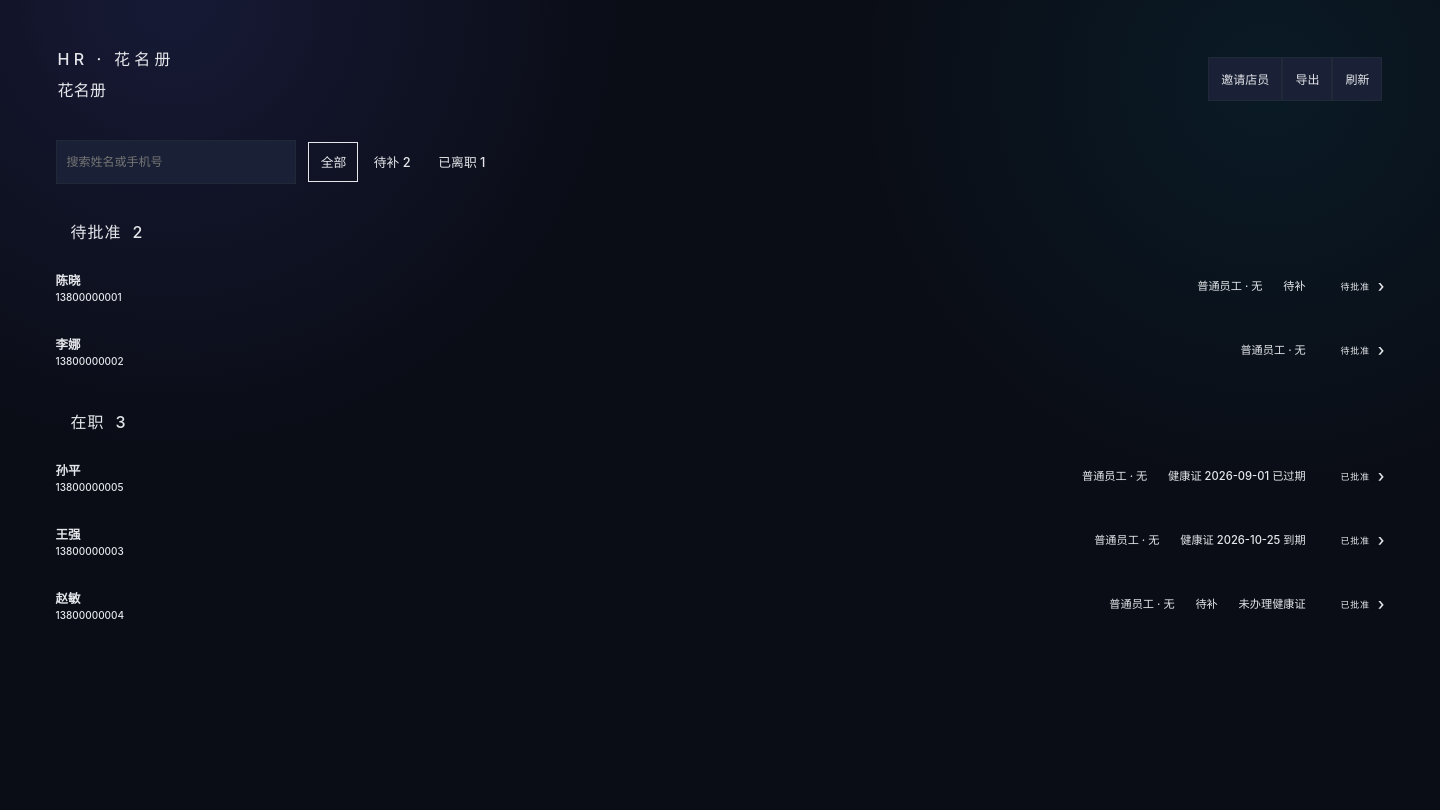
Test case: 花名册 · 列表分区与分段筛选 › 分段「待补 N」只数未停用且档案缺项的人，「已离职 N」是全部停用的人
This screenshot has width=1440, height=810.
Step 1. Click the button with class "roster-seg-item" showing "待补 2" → (392, 162), box [362,142,423,182]
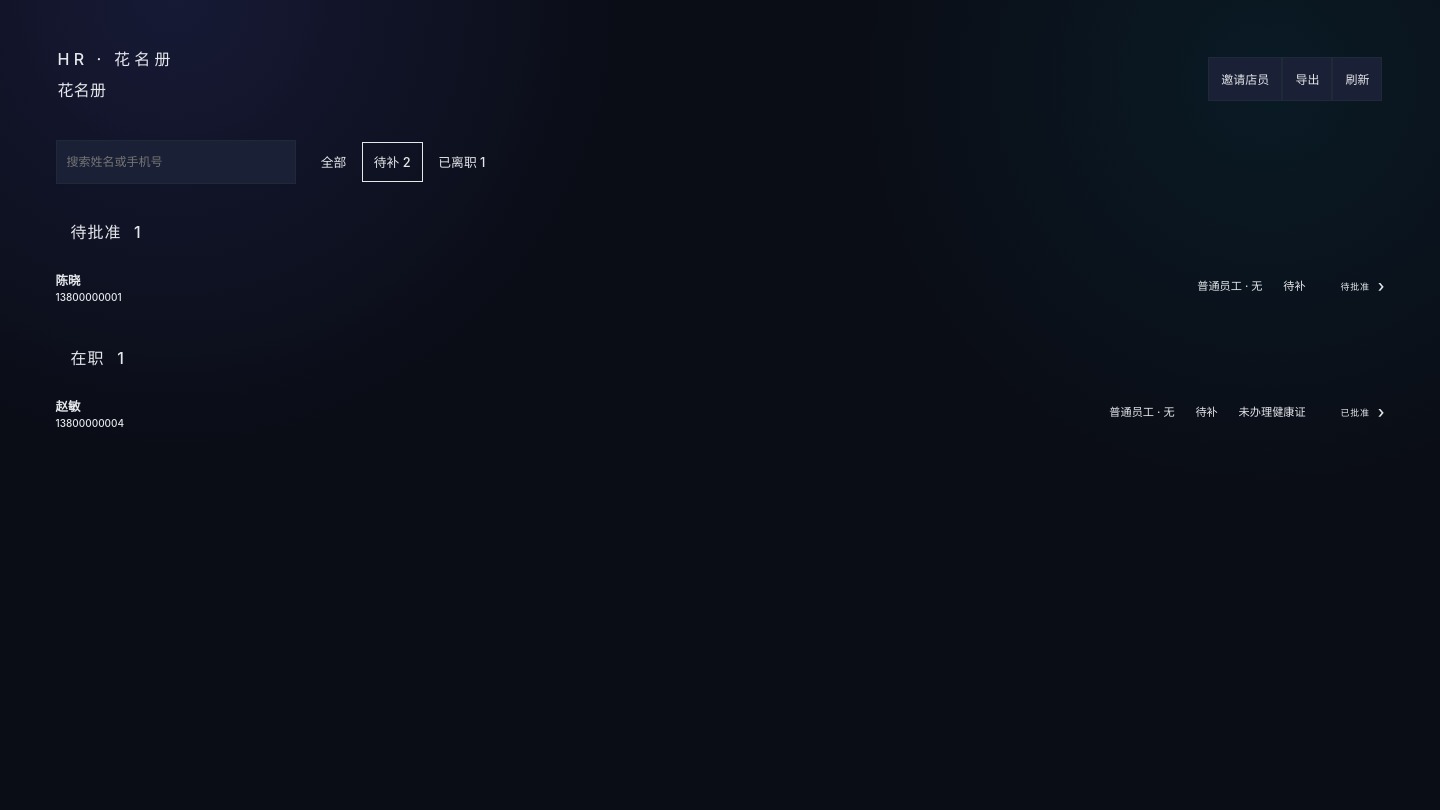
Check: the text "陈晓" is shown, box [56,273,81,288]
Check: the text "王强" is gone
Step 2. Click the button with class "roster-seg-item" showing "已离职 1" → (462, 162), box [426,142,498,182]
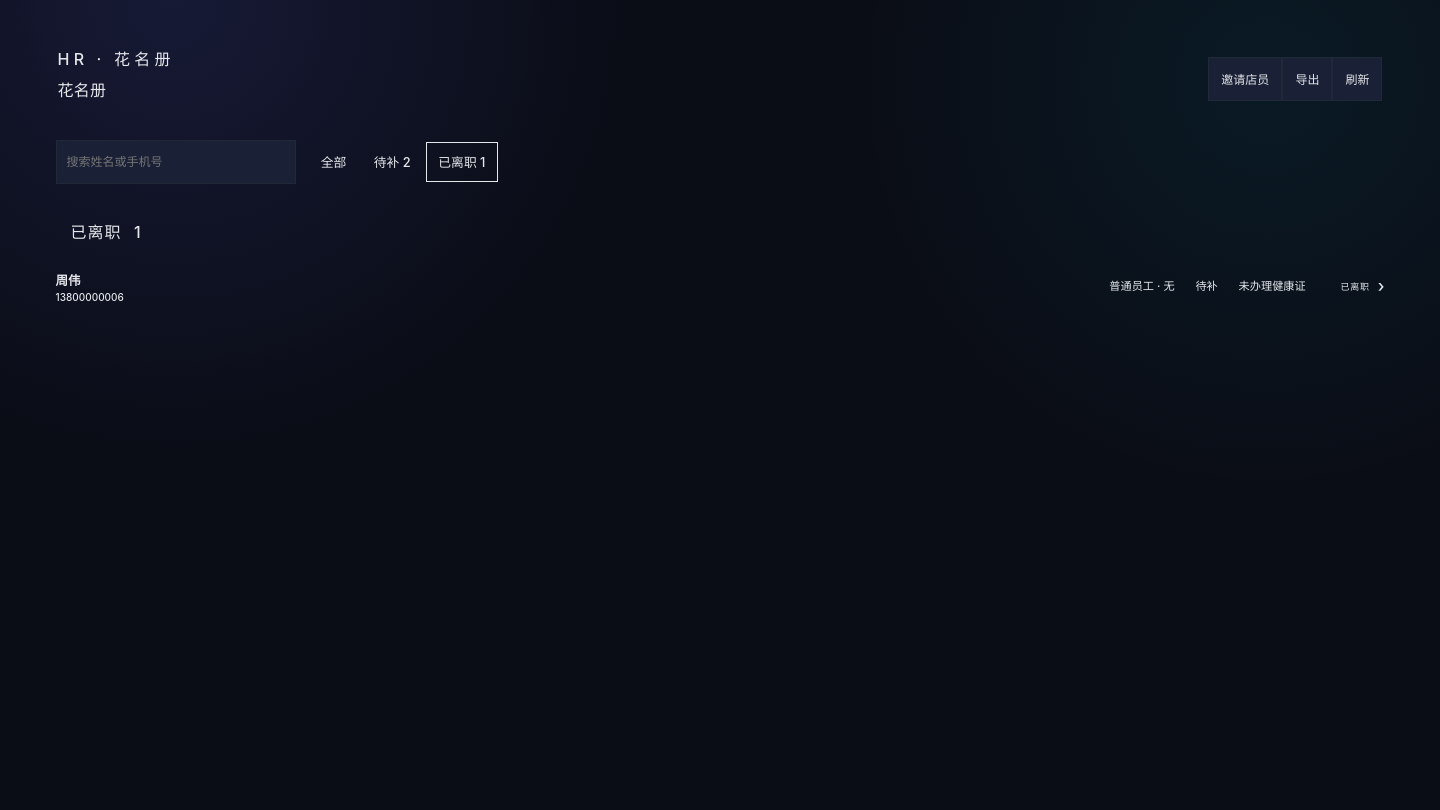
Check: the text "周伟" is shown, box [56,273,81,288]
Check: the text "陈晓" is gone
